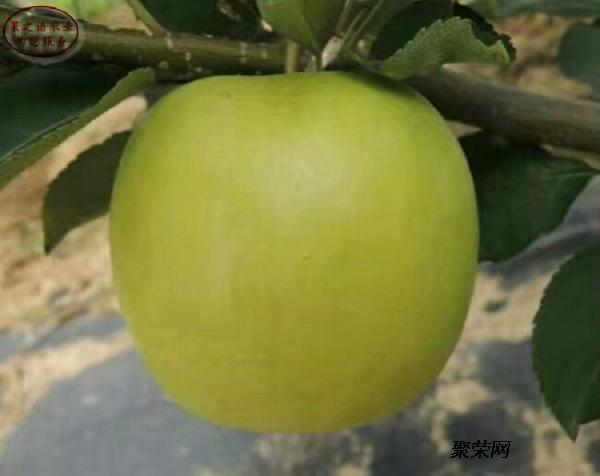apple: (107, 73, 478, 431)
